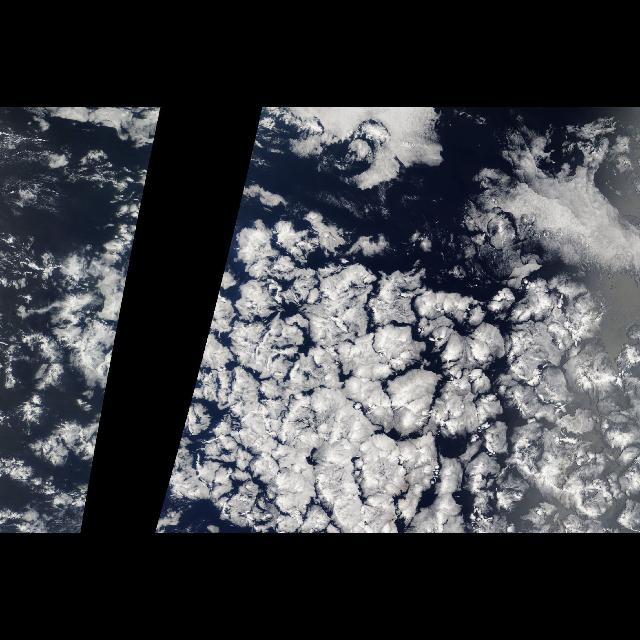Flower: (154, 223, 640, 533), (46, 253, 132, 533)
